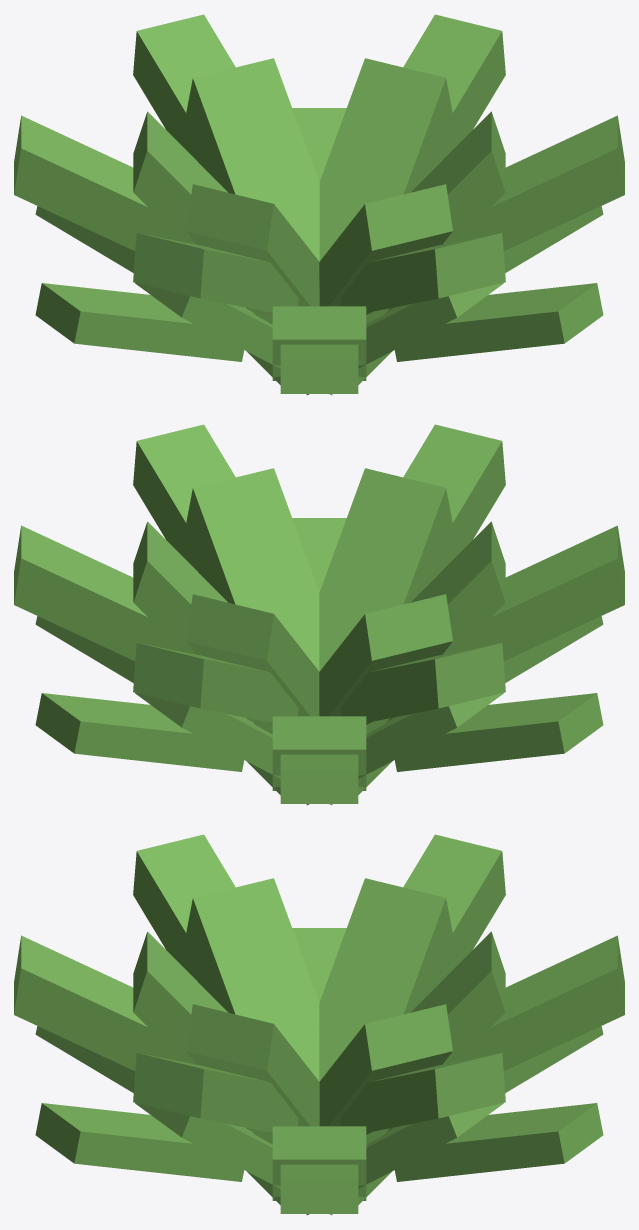
File: SM_Plant_01_B.fbx
3 views of the same model, one above another, from view 1: azimuth 30°, elevation 25°; view 2: azimuth 150°, elevation 25°; view 3: azimuth 270°, elevation 25° (orthographic).
Visible parts, largest first — view 1: pCube376; view 2: pCube376; view 3: pCube376.
Part boxes in pixels (<box>): pCube376: <box>14,14,624,395</box>; pCube376: <box>14,424,624,805</box>; pCube376: <box>14,834,624,1215</box>.
Bounding box in the file's own units: 71.43 × 31.56 × 71.43.
